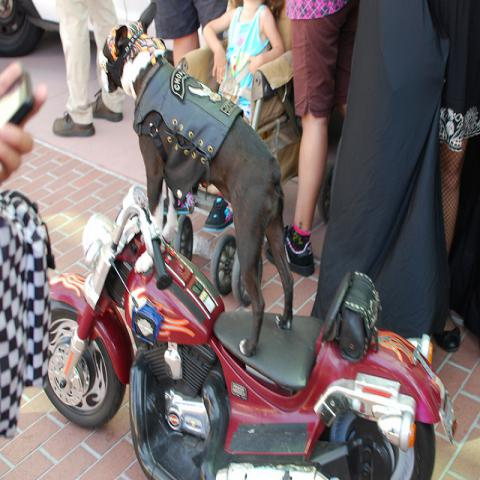motorcycle: (44, 203, 457, 475)
